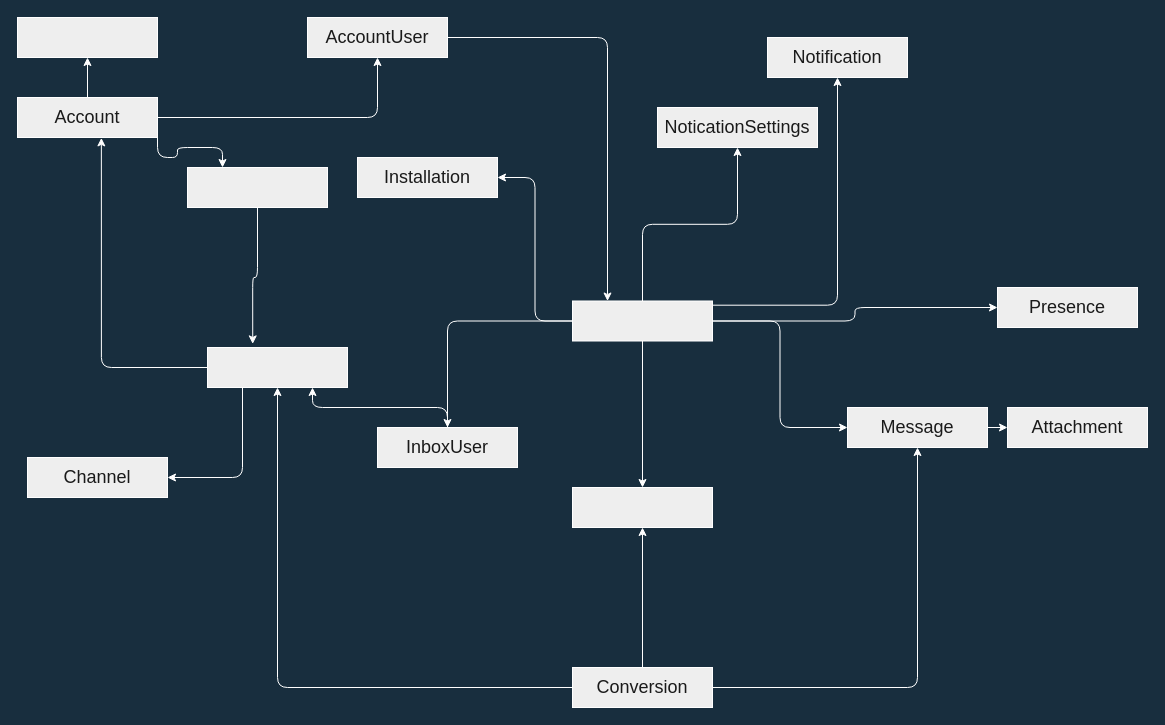
Image size: 1165x725. Some labels were removed from this diagram. The shapes that lost their labels are listed below. From the top down, each one's centre as x and y in pixels, then its label:
At pixel 87 37: "QuickReply".
At pixel 257 187: "Webook".
At pixel 642 320: "User/bot/agent".
At pixel 277 367: "inbox".
At pixel 642 507: "Subscription".
